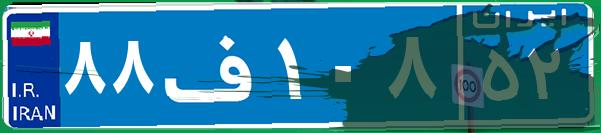0: (330, 28, 385, 110)
1: (273, 28, 330, 110)
2: (525, 38, 570, 115)
5: (475, 38, 525, 113)
8: (385, 28, 445, 110), (57, 26, 110, 107), (110, 28, 158, 105)
ف: (158, 15, 273, 115)
